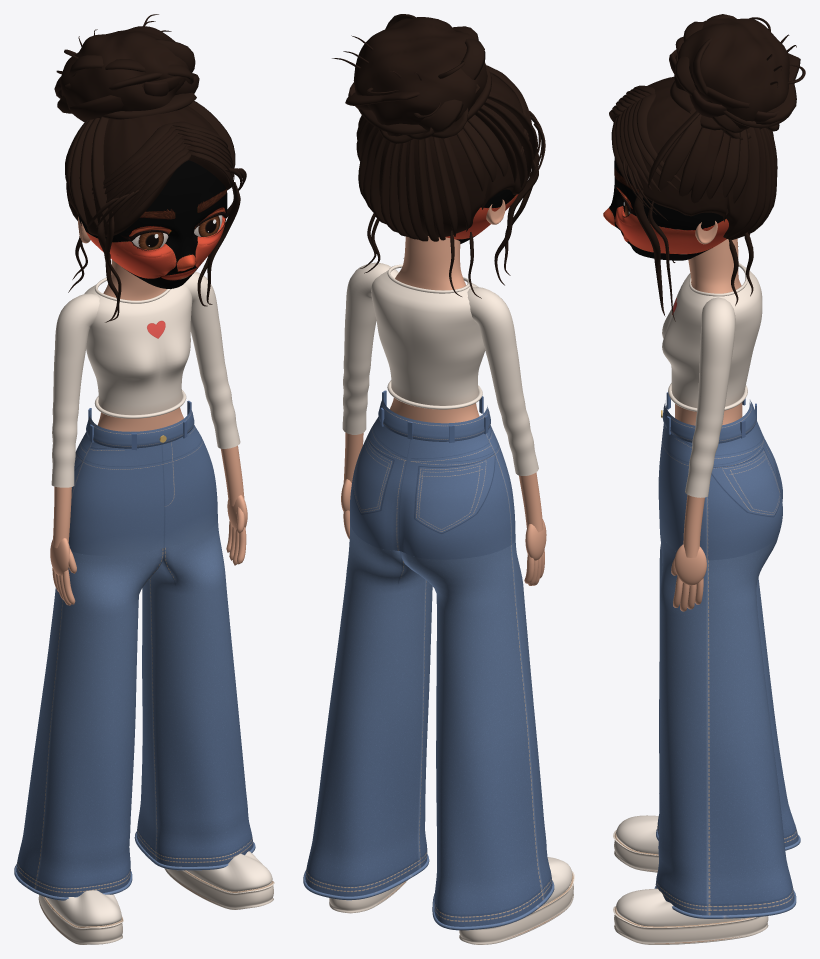
Rendered from maya-before.glb.
The picture shows the model from 3 angles, left to right: view 1: azimuth 30°, elevation 25°; view 2: azimuth 150°, elevation 25°; view 3: azimuth 270°, elevation 25°; orthographic projection. The views are drawn at different scales.
Visible parts, largest first — view 1: Maya, Maya hair, Maya face; view 2: Maya, Maya hair, Maya face; view 3: Maya, Maya hair, Maya face.
Boxes of the visible parts, x1=… form: Maya: x1=14, y1=209, x2=274, y2=944; Maya hair: x1=54, y1=14, x2=246, y2=322; Maya face: x1=78, y1=160, x2=227, y2=288; Maya: x1=303, y1=199, x2=574, y2=944; Maya hair: x1=332, y1=14, x2=545, y2=298; Maya face: x1=445, y1=189, x2=518, y2=243; Maya: x1=613, y1=186, x2=800, y2=944; Maya hair: x1=609, y1=14, x2=805, y2=321; Maya face: x1=603, y1=158, x2=728, y2=260.
Bounding box in the file's own units: 0.465 × 1.78 × 0.3739.
48 materials, 16 textured.
